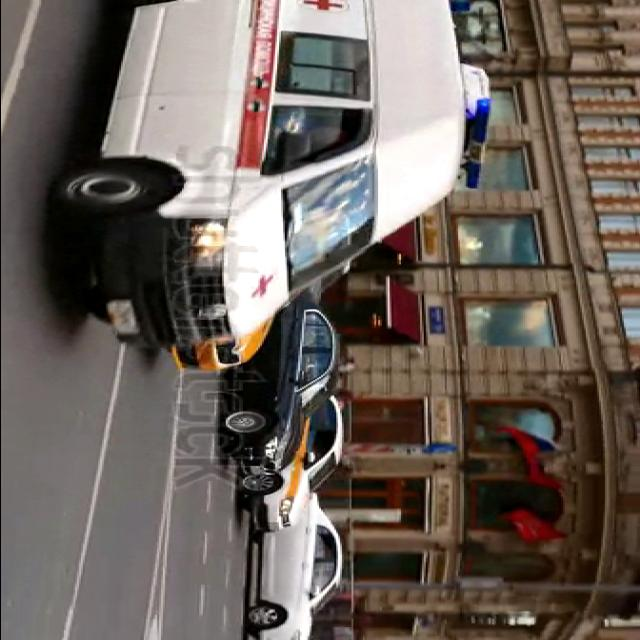ambulance: (49, 3, 490, 349)
